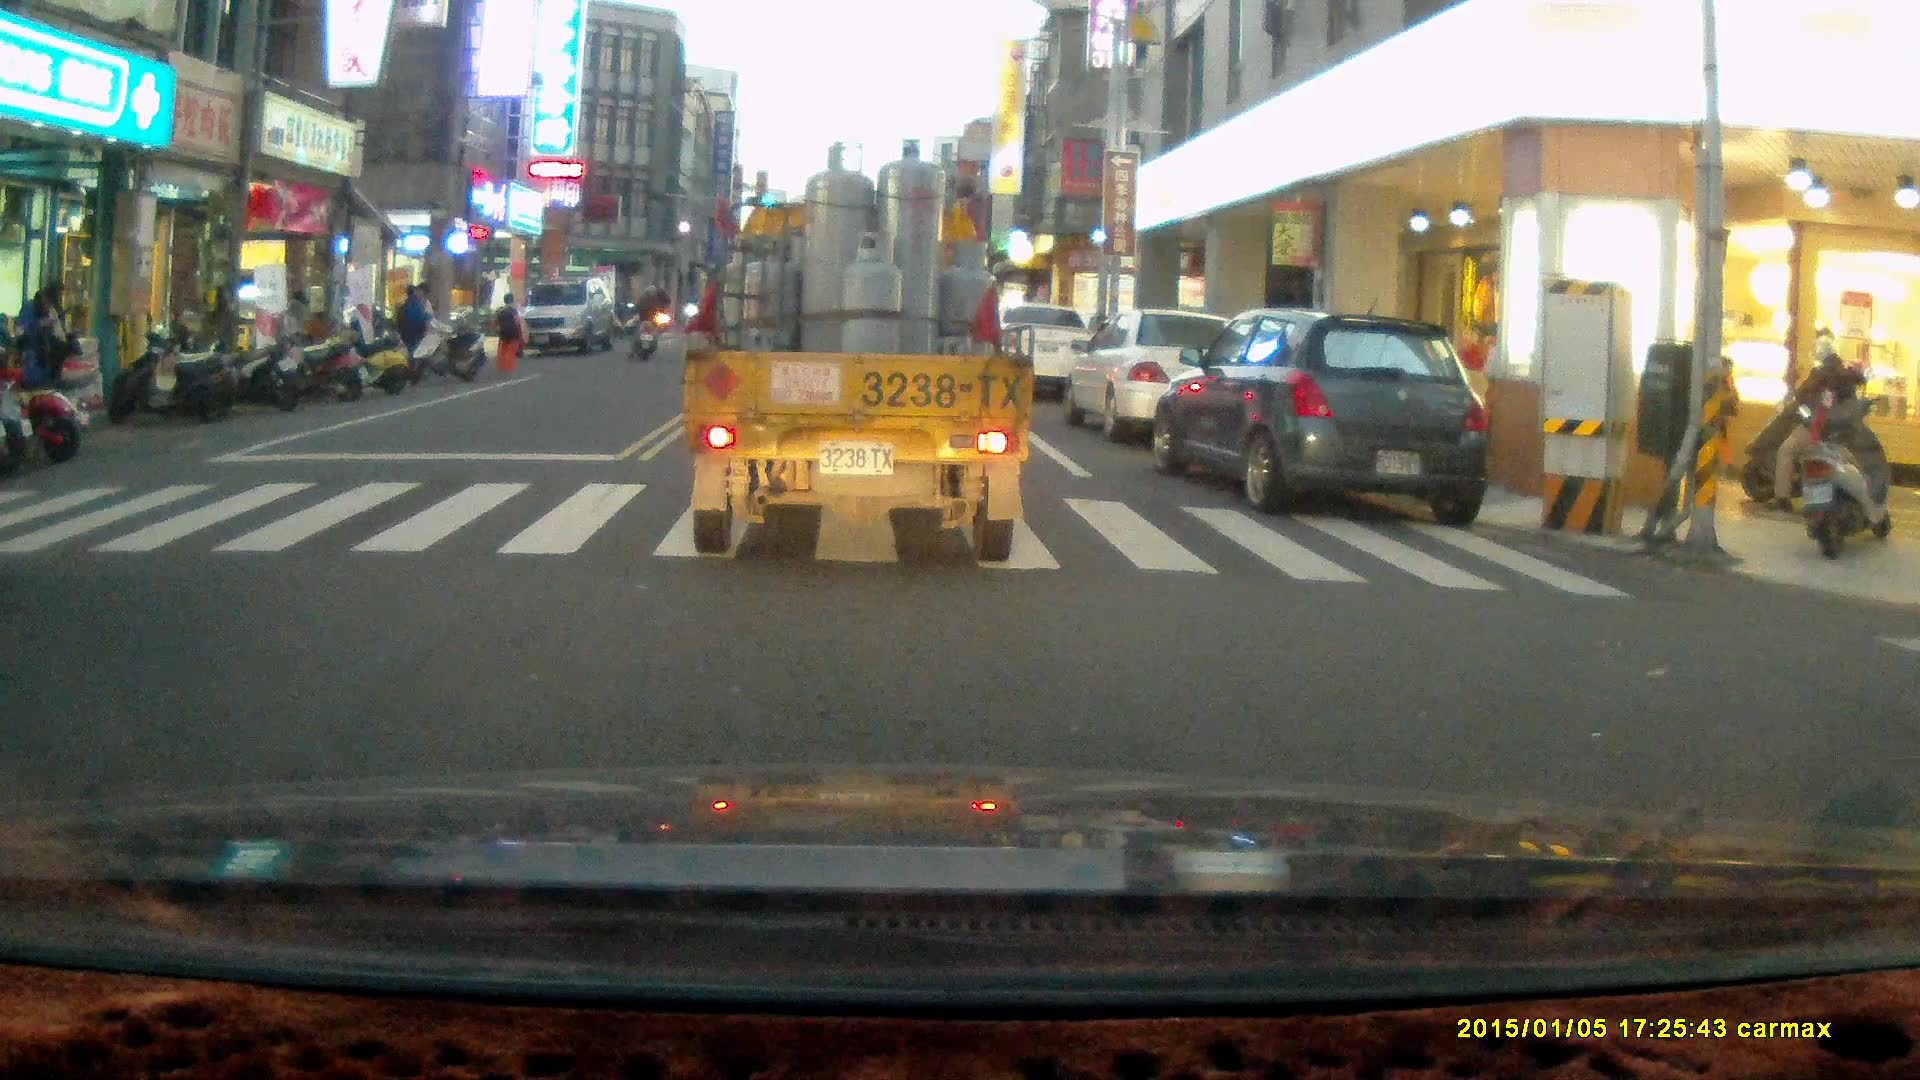pedestrian: (13, 277, 81, 415), (394, 283, 433, 379), (494, 292, 530, 374)
rider: (1739, 336, 1884, 518), (625, 281, 662, 362)
vehicle: (686, 141, 1033, 568), (1149, 309, 1486, 527), (1064, 311, 1266, 442), (989, 305, 1105, 407), (517, 277, 620, 354)
